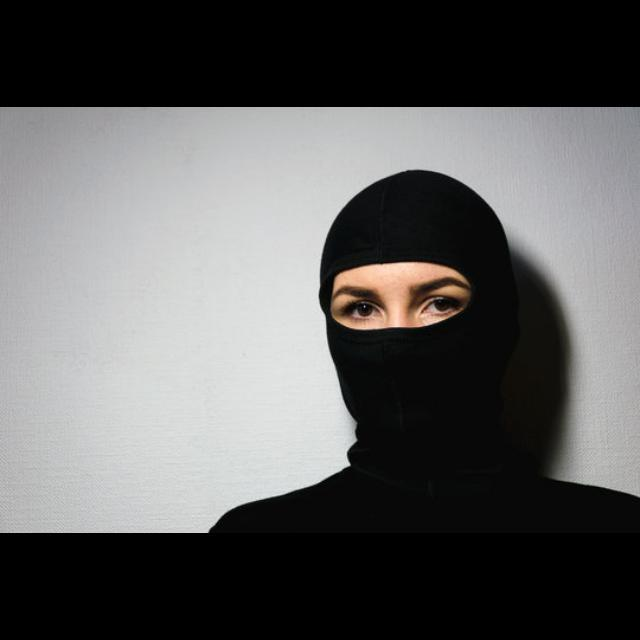criminal: (210, 169, 640, 533)
